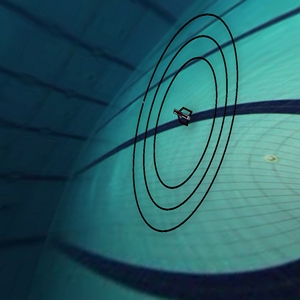circle: (122, 9, 254, 240)
submarine: (163, 98, 200, 131)
